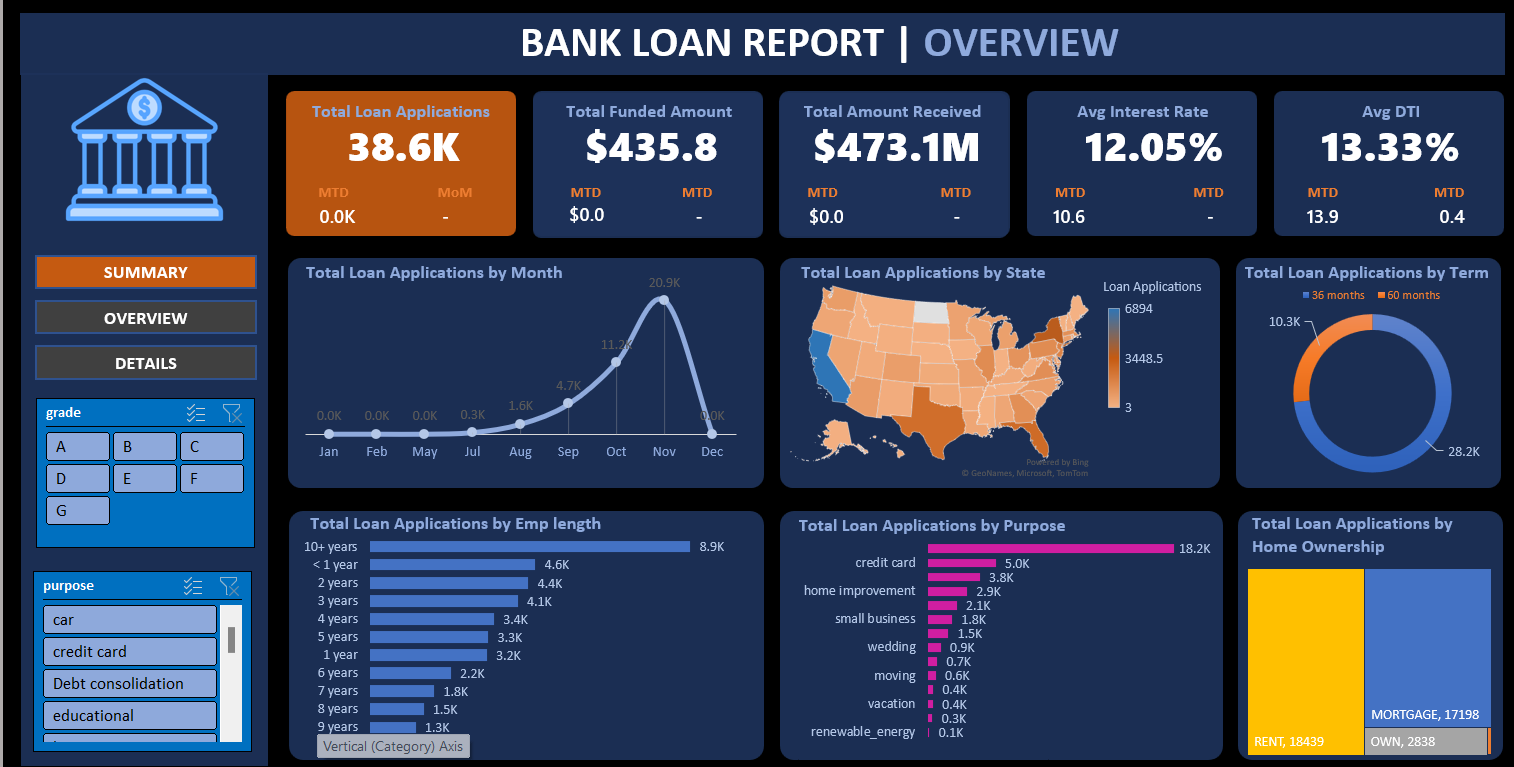

This screenshot's page, from the dashboard's own definition file:
{"tool":"powerbi","page":{"name":"Overview","canvas":[1280,720],"ordinal":1},"visuals":[{"type":"shape","box":[0,0,1280,54.7],"z":0},{"type":"shape","box":[206.3,62.9,194.9,116.5],"z":0,"group":"g3"},{"type":"shape","box":[421.8,62.9,194.9,116.5],"z":0,"group":"g4"},{"type":"shape","box":[852.9,63.8,194.9,116.5],"z":0,"group":"g6"},{"type":"shape","box":[637.4,63.9,194.9,116.5],"z":0,"group":"g5"},{"type":"shape","box":[1068.5,64.8,194.9,116.5],"z":0,"group":"g7"},{"type":"shape","box":[0,54.7,192,665.3],"z":1000},{"type":"card","fields":{"Values":["bank_loan_data.Total Loan Application"]},"box":[202.2,81.5,194.9,43.3],"z":1000,"group":"g3"},{"type":"card","fields":{"Values":["bank_loan_data.Total Funded Amount"]},"box":[417.7,81.5,194.9,43.3],"z":1000,"group":"g4"},{"type":"card","fields":{"Values":["bank_loan_data.Avg Interest Rate"]},"box":[848.8,82.4,194.9,43.3],"z":1000,"group":"g6"},{"type":"card","fields":{"Values":["bank_loan_data.Total Amount Received"]},"box":[633.3,82.5,194.9,43.3],"z":1000,"group":"g5"},{"type":"card","fields":{"Values":["bank_loan_data.Avg DTI"]},"box":[1064.4,83.4,194.9,43.3],"z":1000,"group":"g7"},{"type":"textbox","box":[849.7,61.9,197,39.2],"z":2000,"group":"g6"},{"type":"textbox","box":[217.7,62.9,165,37.1],"z":2000,"group":"g3"},{"type":"textbox","box":[433.2,62.9,165,37.1],"z":2000,"group":"g4"},{"type":"textbox","box":[1065.3,62.9,197,39.2],"z":2000,"group":"g7"},{"type":"textbox","box":[648.8,63.9,165,37.1],"z":2000,"group":"g5"},{"type":"shape","box":[206.4,198.8,410.6,235.5],"z":2000},{"type":"textbox","box":[420.8,3.1,438.3,49.5],"z":3000},{"type":"card","title":"MTD","fields":{"Values":["bank_loan_data.MTD Loan Applications"]},"box":[217.7,129.9,53.6,49.5],"z":3000,"group":"g3"},{"type":"card","title":"MTD","fields":{"Values":["bank_loan_data.MTD Funded Amount"]},"box":[433.2,129.9,53.6,49.5],"z":3000,"group":"g4"},{"type":"card","title":"MTD","fields":{"Values":["bank_loan_data.MTD Total Amount Recieved"]},"box":[648.8,130.9,53.6,49.5],"z":3000,"group":"g5"},{"type":"card","title":"MTD","fields":{"Values":["bank_loan_data.MTD Avg Int Rate"]},"box":[864.3,130.9,53.6,49.5],"z":3000,"group":"g6"},{"type":"card","title":"MTD","fields":{"Values":["bank_loan_data.MTD Avg DTI"]},"box":[1079.9,131.9,53.6,49.5],"z":3000,"group":"g7"},{"type":"group","id":"g1","title":"Group 1","box":[202.2,62.9,199.1,116.5],"z":4000},{"type":"card","title":"MoM","fields":{"Values":["bank_loan_data.MoM Loan Applications"]},"box":[329.1,129.9,53.6,49.5],"z":4000,"group":"g3"},{"type":"card","title":"MoM","fields":{"Values":["bank_loan_data.MoM Total Funded Amount"]},"box":[544.6,129.9,53.6,49.5],"z":4000,"group":"g4"},{"type":"card","title":"MoM","fields":{"Values":["bank_loan_data.MoM Total Amount Received"]},"box":[760.2,130.9,53.6,49.5],"z":4000,"group":"g5"},{"type":"card","title":"MoM","fields":{"Values":["bank_loan_data.MoM Avg Int Rate"]},"box":[975.7,130.9,53.6,49.5],"z":4000,"group":"g6"},{"type":"card","title":"MoM","fields":{"Values":["bank_loan_data.MoM Avg DTI"]},"box":[1191.3,131.9,53.6,49.5],"z":4000,"group":"g7"},{"type":"group","id":"g2","title":"Group 1","box":[417.7,62.9,199.1,116.5],"z":5000},{"type":"group","id":"g3","title":"Group 2","box":[202.2,62.9,199.1,116.5],"z":5004,"group":"g1"},{"type":"group","id":"g4","title":"Group 2","box":[417.7,62.9,199.1,116.5],"z":5004,"group":"g2"},{"type":"group","id":"g5","title":"Group 2","box":[633.3,63.9,199.1,116.5],"z":6000},{"type":"group","id":"g6","title":"Group 2","box":[848.8,61.9,199.1,118.6],"z":7000},{"type":"group","id":"g7","title":"Group 2","box":[1064.4,62.9,199.1,118.6],"z":8000},{"type":"slicer","fields":{"Values":["bank_loan_data.address_state"]},"box":[8.3,489.9,176.4,46.4],"z":9000},{"type":"textbox","box":[8.3,456.9,60.9,33],"z":10000},{"type":"slicer","fields":{"Values":["bank_loan_data.grade"]},"box":[7.2,579.6,176.4,46.4],"z":11000},{"type":"slicer","fields":{"Values":["bank_loan_data.Good vs Bad Loan"]},"box":[8.3,663.2,176.4,46.4],"z":12000},{"type":"textbox","box":[8.3,632.2,140.3,33],"z":13000},{"type":"textbox","box":[8.3,546.6,60.9,33],"z":14000},{"type":"areaChart","fields":{"Y":["bank_loan_data.Total Loan Application"],"Category":["Date Table.Month"]},"box":[206.4,198.8,406.2,235.5],"z":15000},{"type":"slicer","fields":{"Values":["Select Measure.Select Measure"]},"box":[8.3,404.3,176.4,45.4],"z":16000},{"type":"textbox","box":[8.3,372.3,112.4,32],"z":17000},{"type":"shape","box":[637.4,198.8,360,235.5],"z":18000},{"type":"shapeMap","fields":{"Value":["bank_loan_data.Total Loan Application"],"Category":["bank_loan_data.address_state"]},"box":[637.4,199.1,360,235.2],"z":19000},{"type":"shape","box":[1018,198,245.5,236.2],"z":20000},{"type":"donutChart","fields":{"Y":["bank_loan_data.Total Loan Application"],"Category":["bank_loan_data.term"]},"box":[1018,199.1,244.4,235.2],"z":21000},{"type":"shape","box":[202.2,449.7,414.6,259.9],"z":22000},{"type":"barChart","fields":{"Y":["bank_loan_data.Total Loan Application"],"Category":["bank_loan_data.emp_length"]},"box":[202.2,449.7,414.6,259.9],"z":23000},{"type":"shape","box":[633.3,449.7,364.1,259.9],"z":24000},{"type":"barChart","fields":{"Y":["bank_loan_data.Total Loan Application"],"Category":["bank_loan_data.purpose"]},"box":[633.3,449.7,364.1,259.9],"z":25000},{"type":"shape","box":[1018,449.7,245.5,259.9],"z":26000},{"type":"image","box":[25.8,52.6,139.2,139.2],"z":27000},{"type":"treemap","fields":{"Values":["bank_loan_data.Total Loan Application"],"Group":["bank_loan_data.home_ownership"]},"box":[1018,449.7,245.5,259.9],"z":28000},{"type":"pageNavigator","box":[8.3,198,175.3,168.1],"z":29000}]}

Visuals, with their boxes on the page's 1280x720 design canvas (x1, y1, x2, y2). These are canvas units, not pixel positions in the 1514x767 screenshot, which may show the page scaled, cropped or inside an application window:
shape: bbox=(0, 0, 1280, 55)
shape: bbox=(206, 63, 401, 179)
shape: bbox=(422, 63, 617, 179)
shape: bbox=(853, 64, 1048, 180)
shape: bbox=(637, 64, 832, 180)
shape: bbox=(1068, 65, 1263, 181)
shape: bbox=(0, 55, 192, 720)
card - bank_loan_data.Total Loan Application: bbox=(202, 82, 397, 125)
card - bank_loan_data.Total Funded Amount: bbox=(418, 82, 613, 125)
card - bank_loan_data.Avg Interest Rate: bbox=(849, 82, 1044, 126)
card - bank_loan_data.Total Amount Received: bbox=(633, 82, 828, 126)
card - bank_loan_data.Avg DTI: bbox=(1064, 83, 1259, 127)
textbox: bbox=(850, 62, 1047, 101)
textbox: bbox=(218, 63, 383, 100)
textbox: bbox=(433, 63, 598, 100)
textbox: bbox=(1065, 63, 1262, 102)
textbox: bbox=(649, 64, 814, 101)
shape: bbox=(206, 199, 617, 434)
textbox: bbox=(421, 3, 859, 53)
"MTD" card: bbox=(218, 130, 271, 179)
"MTD" card: bbox=(433, 130, 487, 179)
"MTD" card: bbox=(649, 131, 702, 180)
"MTD" card: bbox=(864, 131, 918, 180)
"MTD" card: bbox=(1080, 132, 1134, 181)
"Group 1" group: bbox=(202, 63, 401, 179)
"MoM" card: bbox=(329, 130, 383, 179)
"MoM" card: bbox=(545, 130, 598, 179)
"MoM" card: bbox=(760, 131, 814, 180)
"MoM" card: bbox=(976, 131, 1029, 180)
"MoM" card: bbox=(1191, 132, 1245, 181)
"Group 1" group: bbox=(418, 63, 617, 179)
"Group 2" group: bbox=(202, 63, 401, 179)
"Group 2" group: bbox=(418, 63, 617, 179)
"Group 2" group: bbox=(633, 64, 832, 180)
"Group 2" group: bbox=(849, 62, 1048, 180)
"Group 2" group: bbox=(1064, 63, 1264, 182)
slicer - bank_loan_data.address_state: bbox=(8, 490, 185, 536)
textbox: bbox=(8, 457, 69, 490)
slicer - bank_loan_data.grade: bbox=(7, 580, 184, 626)
slicer - bank_loan_data.Good vs Bad Loan: bbox=(8, 663, 185, 710)
textbox: bbox=(8, 632, 149, 665)
textbox: bbox=(8, 547, 69, 580)
areaChart - bank_loan_data.Total Loan Application x Date Table.Month: bbox=(206, 199, 613, 434)
slicer - Select Measure.Select Measure: bbox=(8, 404, 185, 450)
textbox: bbox=(8, 372, 121, 404)
shape: bbox=(637, 199, 997, 434)
shapeMap - bank_loan_data.Total Loan Application x bank_loan_data.address_state: bbox=(637, 199, 997, 434)
shape: bbox=(1018, 198, 1264, 434)
donutChart - bank_loan_data.Total Loan Application x bank_loan_data.term: bbox=(1018, 199, 1262, 434)
shape: bbox=(202, 450, 617, 710)
barChart - bank_loan_data.Total Loan Application x bank_loan_data.emp_length: bbox=(202, 450, 617, 710)
shape: bbox=(633, 450, 997, 710)
barChart - bank_loan_data.Total Loan Application x bank_loan_data.purpose: bbox=(633, 450, 997, 710)
shape: bbox=(1018, 450, 1264, 710)
image: bbox=(26, 53, 165, 192)
treemap - bank_loan_data.Total Loan Application x bank_loan_data.home_ownership: bbox=(1018, 450, 1264, 710)
pageNavigator: bbox=(8, 198, 184, 366)
